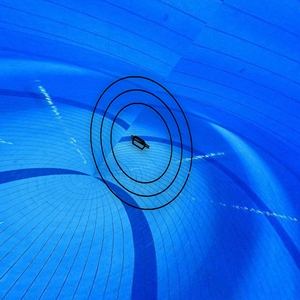circle: (86, 73, 203, 213)
submarine: (130, 134, 157, 156)
